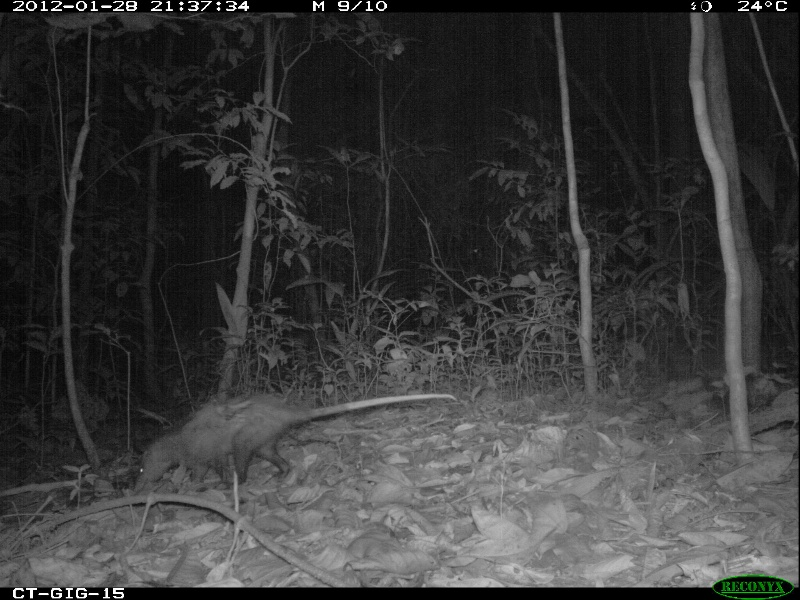opossum: (131, 381, 466, 501)
